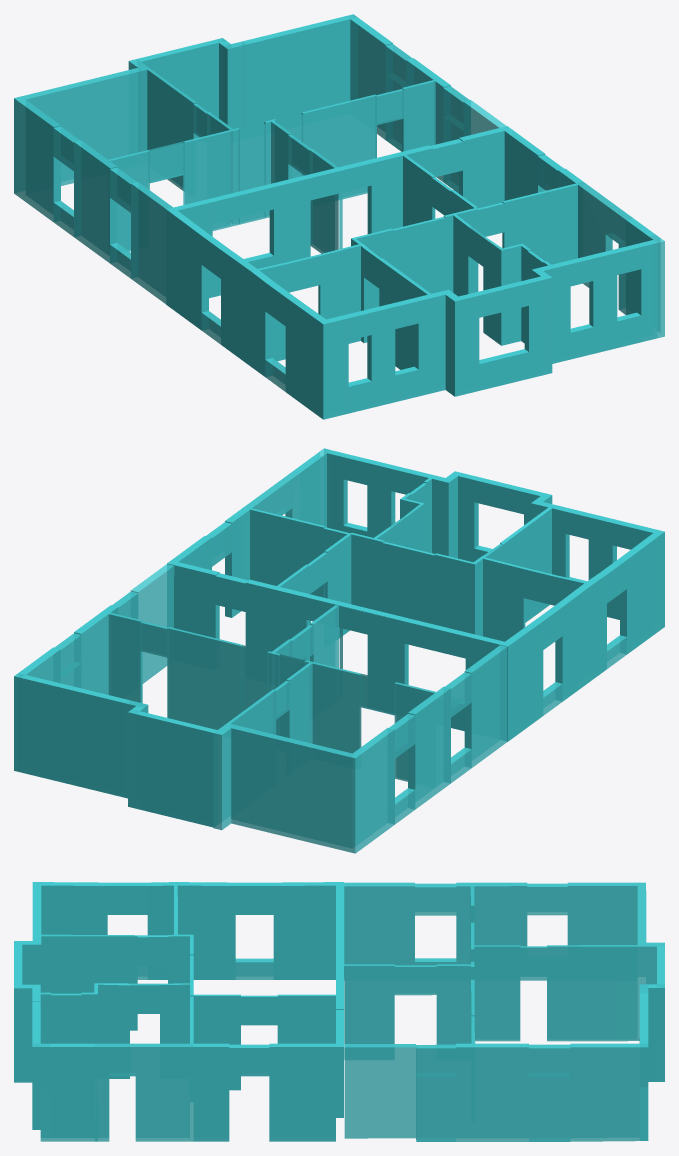
The model's file is HorrorHaus.fbx.
3 views of the same model, one above another, from view 1: azimuth 30°, elevation 25°; view 2: azimuth 150°, elevation 25°; view 3: azimuth 270°, elevation 25° (orthographic).
Parts seen in each view (by area): view 1: Haus; view 2: Haus; view 3: Haus.
Part boxes in pixels (box(x1,y1,x2,y2)): Haus: box(14, 14, 664, 419); Haus: box(14, 448, 664, 853); Haus: box(14, 882, 664, 1141).
Size of the model in its own units: 656 by 176 by 1094.
